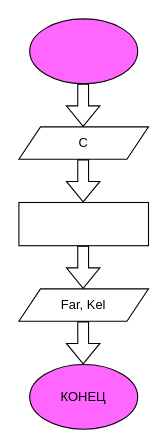
The diagram is 167 pixels wide and 448 high, and some of its shapes have lost their labels. Here are the shapes that lost their labels. From the top down, the centre of each, then its label:
pixel 83 51: НАЧАЛО
pixel 83 223: Far = (C * (9/5)) + 32 Kel = C + 273,15
